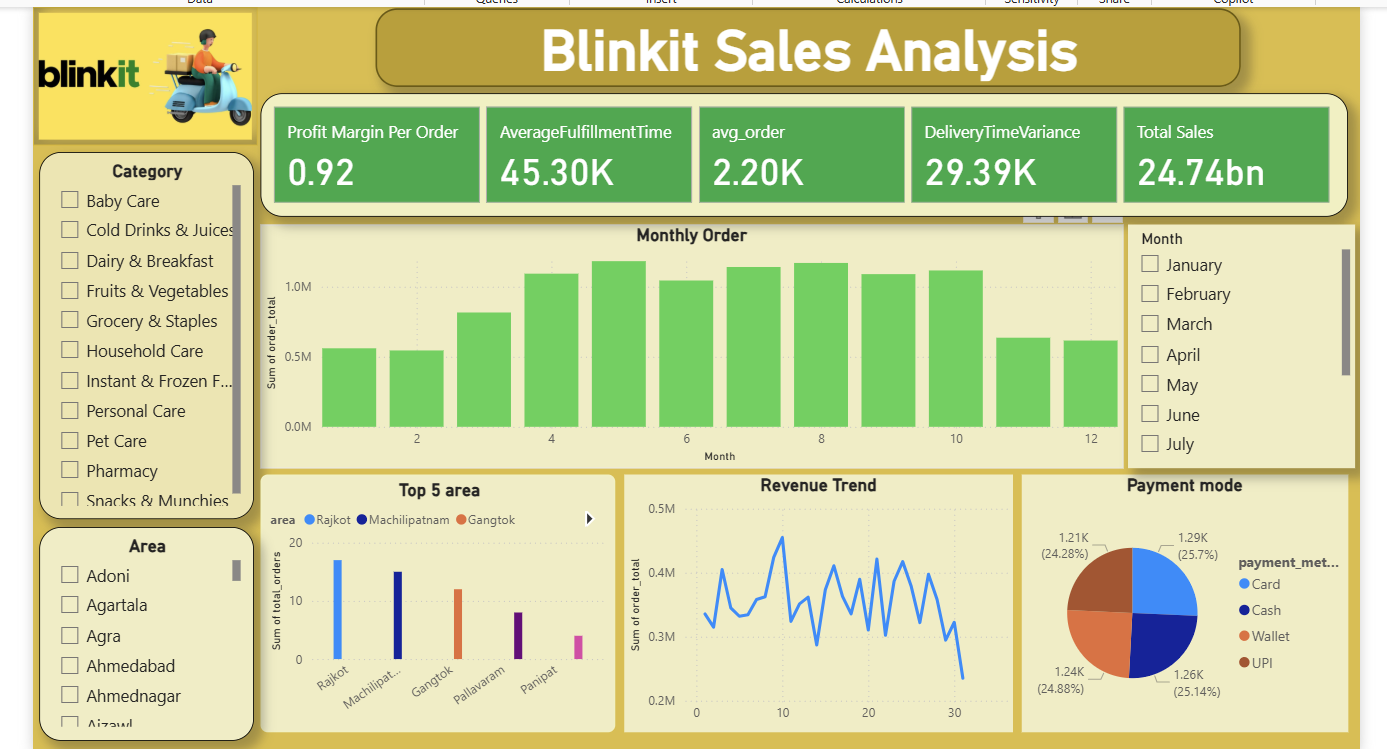

Layout of this report page (visuals, bound fields, positions):
{"tool":"powerbi","page":{"name":"Page 1","canvas":[1280,720],"ordinal":0},"visuals":[{"type":"textbox","title":"Blinkit Sales Analysis","box":[330.6,1.2,834.9,76],"z":0},{"type":"pieChart","title":"Payment mode","fields":{"Category":["blinkit_orders.payment_method"],"Y":["CountNonNull(blinkit_orders.payment_method)"]},"box":[954.3,451.2,314.9,248.5],"z":1000},{"type":"columnChart","title":"Monthly Order","fields":{"Y":["Sum(blinkit_orders.order_total)"],"Category":["blinkit_orders.Month"]},"box":[219.6,209.9,832.4,235.3],"z":2000},{"type":"slicer","title":"Category ","fields":{"Values":["blinkit_products.category"]},"box":[6,139.9,207.5,354.7],"z":3000},{"type":"image","box":[0,0,217.2,133.9],"z":4000},{"type":"lineClusteredColumnComboChart","title":"Top 5 area ","fields":{"Category":["blinkit_customers.area"],"Y":["Sum(blinkit_customers.total_orders)"],"Series":["blinkit_customers.area"]},"box":[219.6,451.2,342.6,248.5],"z":5000},{"type":"cardVisual","fields":{"Data":["blinkit_customer_feedback.Profit Margin Per Order","blinkit_customer_feedback.AverageFulfillmentTime","blinkit_customer_feedback.avg_order","blinkit_customer_feedback.DeliveryTimeVariance","blinkit_customer_feedback.Total Sales"]},"box":[219.6,83.2,1049.6,119.4],"z":6000},{"type":"slicer","title":"Area","fields":{"Values":["blinkit_customers.area"]},"box":[6,501.9,207.5,206.3],"z":7000},{"type":"lineChart","title":"Revenue Trend","fields":{"Category":["blinkit_orders.order_date.Variation.Date Hierarchy.Day"],"Y":["Sum(blinkit_orders.order_total)"]},"box":[570.6,451.2,375.2,248.5],"z":8000},{"type":"slicer","fields":{"Values":["blinkit_orders.order_date.Variation.Date Hierarchy.Month"]},"box":[1056.8,209.9,219.6,235.3],"z":9000}]}

Visuals, with their boxes in screenshot pixels (x1, y1, x2, y2):
"Blinkit Sales Analysis" textbox: x1=367, y1=5, x2=1222, y2=83
"Payment mode" pieChart: x1=1006, y1=466, x2=1329, y2=720
"Monthly Order" columnChart: x1=254, y1=219, x2=1106, y2=460
"Category " slicer: x1=35, y1=147, x2=248, y2=510
image: x1=29, y1=4, x2=251, y2=141
"Top 5 area " lineClusteredColumnComboChart: x1=254, y1=466, x2=605, y2=720
cardVisual - blinkit_customer_feedback.Profit Margin Per Order x blinkit_customer_feedback.AverageFulfillmentTime: x1=254, y1=89, x2=1329, y2=211
"Area" slicer: x1=35, y1=518, x2=248, y2=729
"Revenue Trend" lineChart: x1=613, y1=466, x2=997, y2=720
slicer - blinkit_orders.order_date.Variation.Date Hierarchy.Month: x1=1111, y1=219, x2=1336, y2=460
